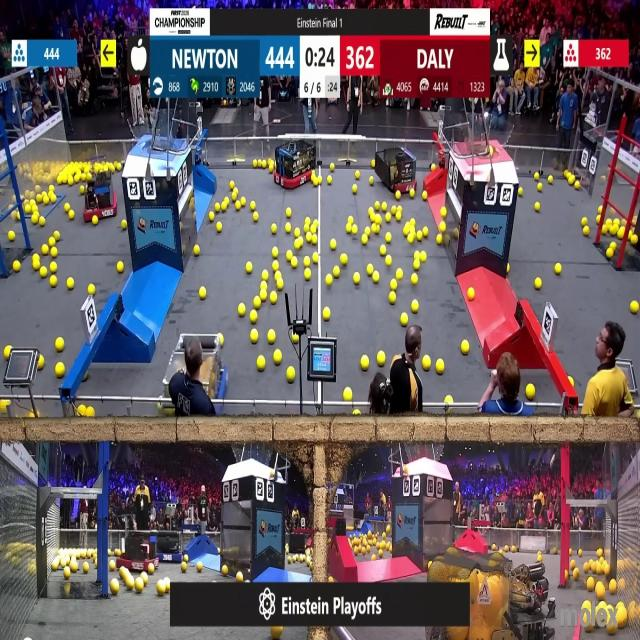ball_airborne: (272, 626, 283, 640)
ball_ground: (617, 610, 628, 630), (158, 582, 168, 596), (526, 385, 535, 400), (57, 362, 66, 376), (256, 356, 265, 370), (360, 356, 369, 370), (110, 581, 119, 595), (596, 586, 605, 600), (607, 623, 616, 636), (57, 338, 65, 352), (461, 341, 469, 355), (378, 352, 386, 366), (286, 366, 294, 380), (422, 356, 430, 370), (136, 580, 144, 594), (435, 359, 443, 373), (126, 580, 135, 592), (322, 308, 330, 321), (250, 329, 258, 342), (608, 582, 616, 595), (588, 579, 596, 592), (412, 302, 420, 314), (345, 388, 353, 400), (67, 278, 75, 290), (630, 302, 638, 314), (270, 291, 278, 303), (250, 311, 258, 323), (269, 332, 277, 344), (275, 351, 282, 364), (400, 313, 407, 326), (4, 346, 11, 359), (631, 236, 639, 247), (534, 278, 541, 290), (200, 287, 207, 299), (49, 276, 56, 288), (239, 305, 246, 317), (389, 291, 396, 303), (412, 274, 419, 286), (12, 262, 19, 274), (37, 356, 44, 368), (183, 562, 190, 574), (33, 260, 40, 272), (253, 298, 260, 310), (446, 394, 454, 404), (390, 280, 397, 291), (116, 263, 123, 274), (341, 253, 348, 264), (40, 268, 47, 279), (277, 280, 284, 291), (435, 235, 442, 246), (603, 564, 610, 575), (556, 264, 562, 276), (354, 273, 360, 285), (372, 272, 378, 284), (584, 600, 592, 609), (166, 409, 174, 418), (49, 264, 56, 274), (440, 222, 447, 232), (606, 249, 613, 259), (325, 276, 332, 286), (414, 262, 421, 272), (237, 571, 244, 581), (334, 268, 341, 278), (582, 226, 589, 236), (370, 223, 377, 233), (619, 229, 626, 239), (88, 408, 95, 418), (108, 561, 115, 571), (1, 399, 8, 409), (571, 568, 578, 578), (414, 251, 421, 261), (71, 562, 78, 572), (272, 248, 278, 259), (246, 264, 252, 275), (305, 256, 311, 267), (366, 265, 372, 276), (221, 565, 227, 576), (198, 562, 204, 573), (64, 567, 70, 578), (82, 563, 88, 574), (148, 567, 156, 575), (291, 335, 298, 344), (284, 223, 291, 232), (141, 573, 148, 582), (330, 240, 336, 250), (90, 284, 96, 294), (250, 202, 256, 212), (306, 270, 312, 280), (50, 247, 56, 257), (386, 234, 392, 244), (93, 215, 99, 225), (192, 246, 198, 256), (264, 272, 270, 282), (42, 245, 48, 255), (395, 212, 401, 222), (381, 246, 387, 256), (273, 262, 279, 272), (468, 288, 473, 300), (396, 271, 402, 281), (291, 260, 297, 270), (252, 212, 258, 222), (55, 232, 61, 242), (69, 211, 75, 221), (286, 208, 292, 218), (32, 214, 38, 224), (306, 234, 312, 244), (262, 291, 268, 301), (382, 203, 388, 213), (408, 235, 414, 245), (313, 176, 319, 186), (312, 236, 318, 246), (294, 240, 300, 250), (115, 163, 121, 173), (588, 624, 594, 634), (275, 272, 282, 280), (363, 226, 370, 234), (259, 282, 266, 290), (272, 223, 277, 234), (386, 256, 392, 265), (8, 233, 14, 242), (314, 254, 320, 263), (293, 229, 299, 238), (601, 224, 607, 233), (286, 250, 292, 259), (48, 238, 54, 247), (375, 202, 381, 211), (119, 567, 125, 576), (583, 217, 589, 226), (68, 176, 74, 185), (43, 197, 49, 206), (568, 176, 574, 185), (26, 206, 32, 215), (58, 175, 64, 184), (33, 195, 39, 204), (74, 174, 80, 183), (386, 213, 391, 223), (219, 336, 224, 346), (237, 202, 242, 212), (362, 236, 367, 246), (352, 224, 357, 234), (423, 229, 428, 239), (403, 226, 408, 236), (421, 252, 426, 262), (422, 191, 428, 199), (352, 184, 358, 192), (596, 216, 602, 224), (214, 204, 220, 212), (609, 242, 615, 250), (368, 214, 374, 222), (228, 184, 234, 192), (305, 224, 311, 232), (252, 161, 258, 169), (598, 602, 606, 608), (596, 207, 602, 215), (216, 222, 221, 231), (442, 208, 447, 217), (534, 203, 539, 212), (39, 217, 44, 226), (417, 233, 422, 242), (574, 181, 579, 190), (377, 214, 382, 223), (233, 191, 238, 200), (50, 193, 55, 202), (391, 206, 396, 215), (79, 185, 84, 194), (80, 173, 85, 182), (546, 176, 552, 183), (348, 216, 354, 223), (411, 218, 417, 225), (411, 189, 416, 197), (121, 220, 126, 228), (347, 224, 352, 232), (328, 575, 333, 583), (534, 173, 539, 181), (241, 199, 246, 207), (570, 560, 575, 568), (519, 187, 524, 195), (312, 224, 317, 232), (222, 199, 227, 207), (564, 569, 569, 577), (48, 184, 53, 192), (537, 554, 542, 562), (585, 564, 590, 572), (564, 171, 569, 179), (492, 542, 497, 550), (114, 550, 119, 558), (210, 212, 214, 221), (356, 171, 360, 180), (354, 411, 360, 417), (329, 165, 334, 172), (65, 204, 70, 211), (306, 217, 311, 224), (430, 165, 435, 172), (269, 167, 274, 174), (396, 190, 400, 198), (537, 182, 541, 190), (368, 177, 372, 185), (327, 176, 331, 184), (370, 161, 374, 169), (380, 550, 384, 558), (264, 159, 268, 167), (184, 555, 188, 562), (568, 550, 572, 557), (506, 266, 509, 275), (578, 551, 582, 557), (371, 556, 375, 562), (217, 547, 221, 553), (554, 547, 558, 553), (108, 550, 111, 557)
goal: (461, 116, 516, 158), (130, 115, 188, 152)
robot_blue: (157, 530, 187, 562)
robot_red: (272, 140, 318, 191), (118, 529, 162, 574), (378, 146, 417, 192), (84, 174, 120, 220)
